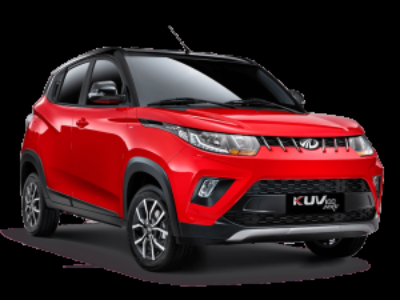licence: (284, 177, 361, 224)
